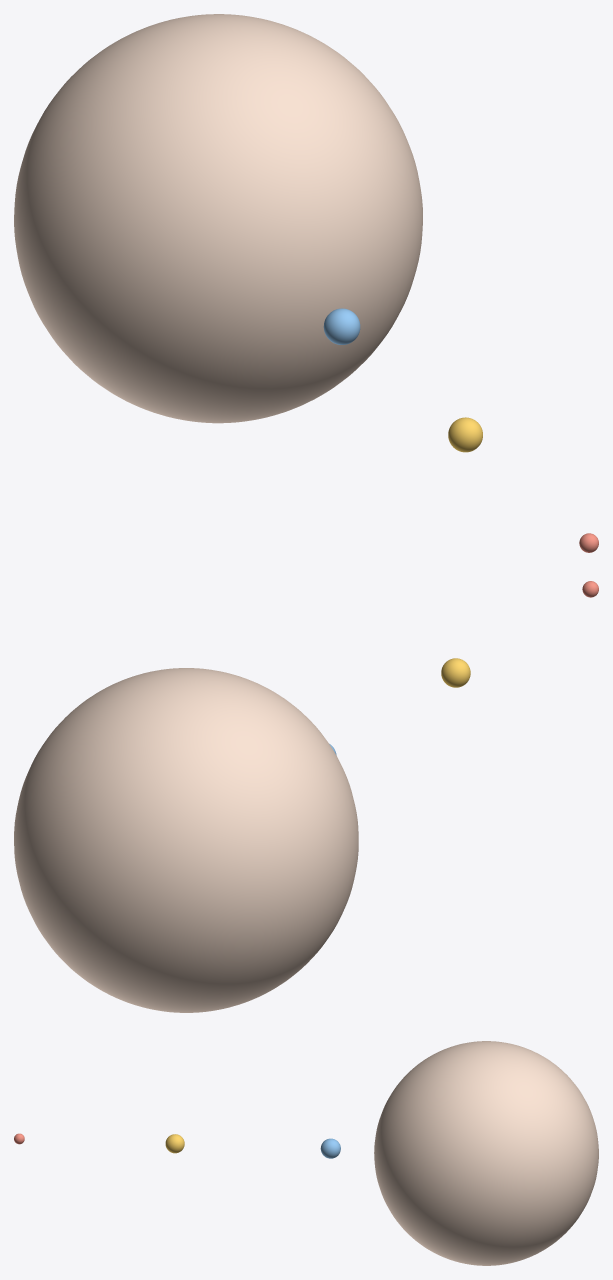
3 renders of one model, top to bottom at view 1: azimuth 30°, elevation 25°; view 2: azimuth 150°, elevation 25°; view 3: azimuth 270°, elevation 25°, orthographic. The views are drawn at different scales.
Bounding box in the file's own units: 14.4 × 14.4 × 37.46.
